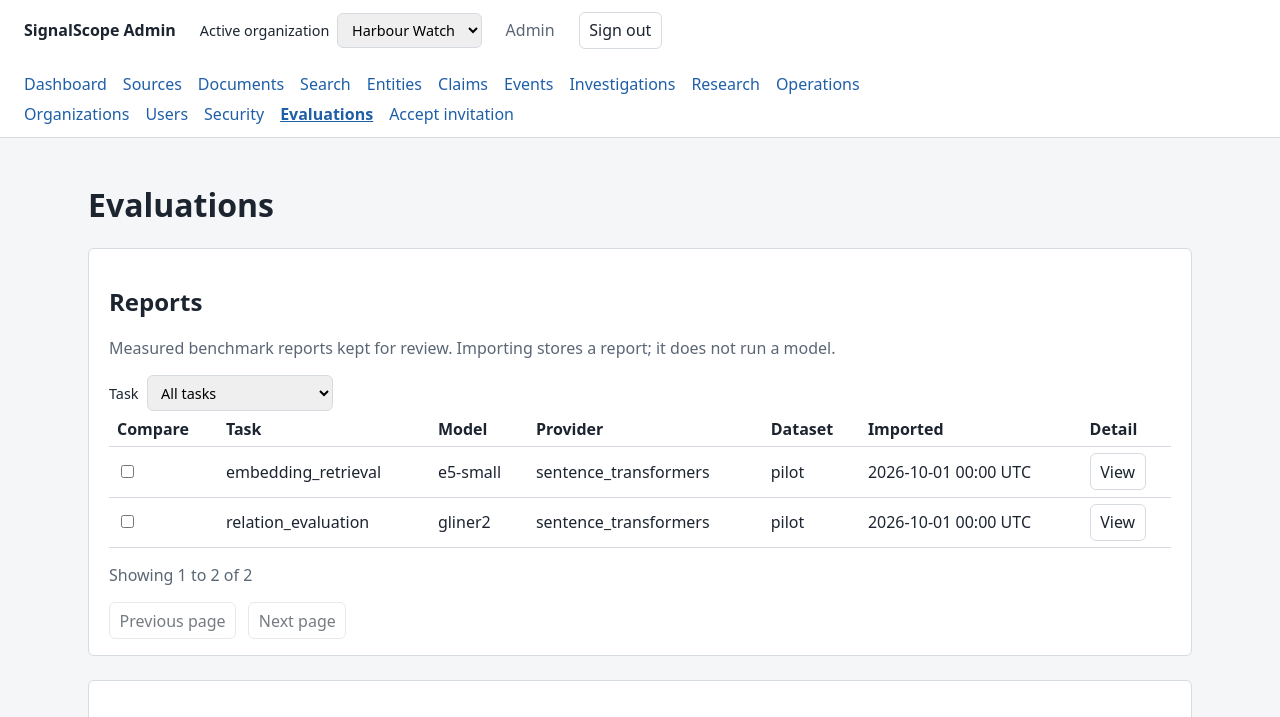
Scenario: evaluation workspace › shows a report detail with metrics and a relation note
The image size is (1280, 717).
Check: the text "gliner2" is shown, box [430,497,528,548]
Click the button "View" in the row of "relation_evaluation". click: (1118, 522)
box: [1090,504,1146,541]
(page scrolled)
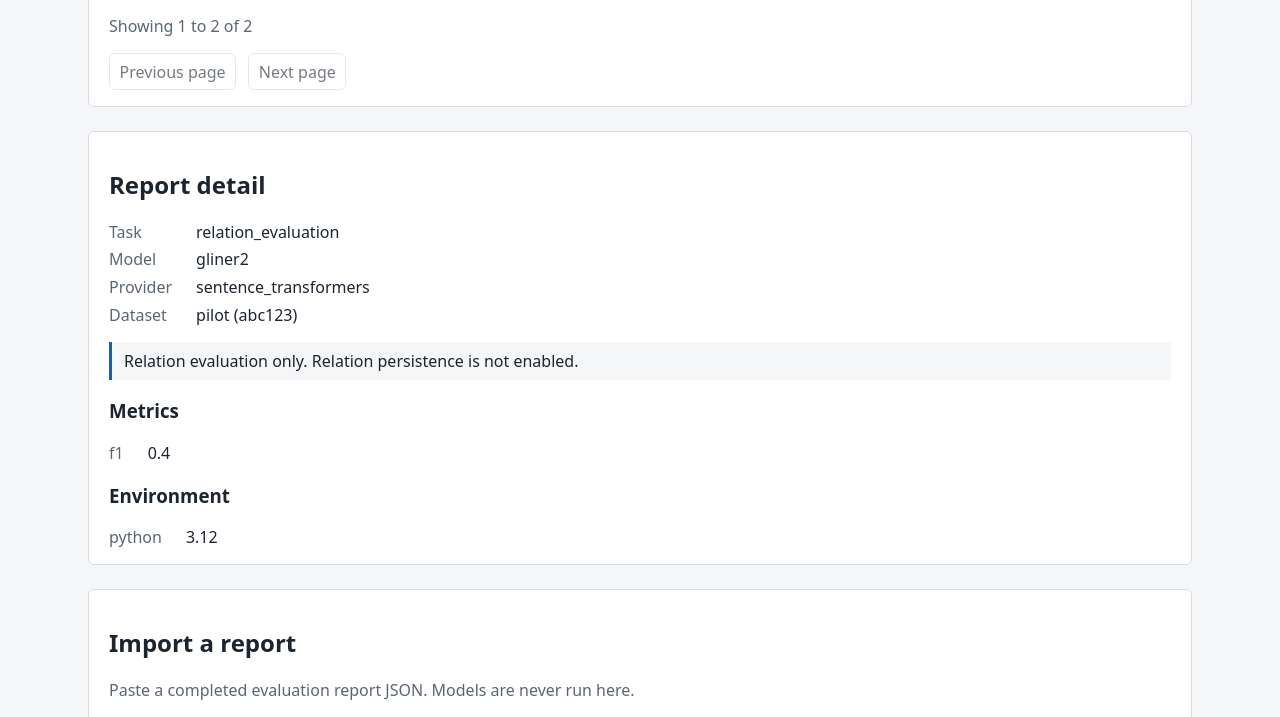
Check: the text "f1" is shown, box [109,442,124,464]
Check: the text "Relation persistence is not enabled" is shown, box [124,350,578,372]
